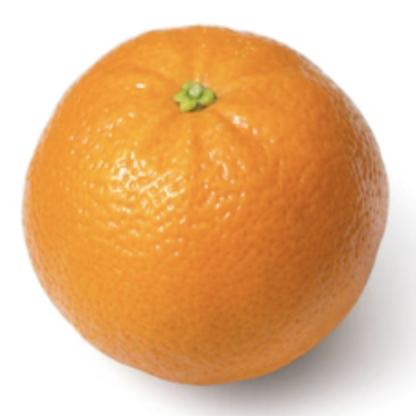fresh: (20, 28, 389, 382)
